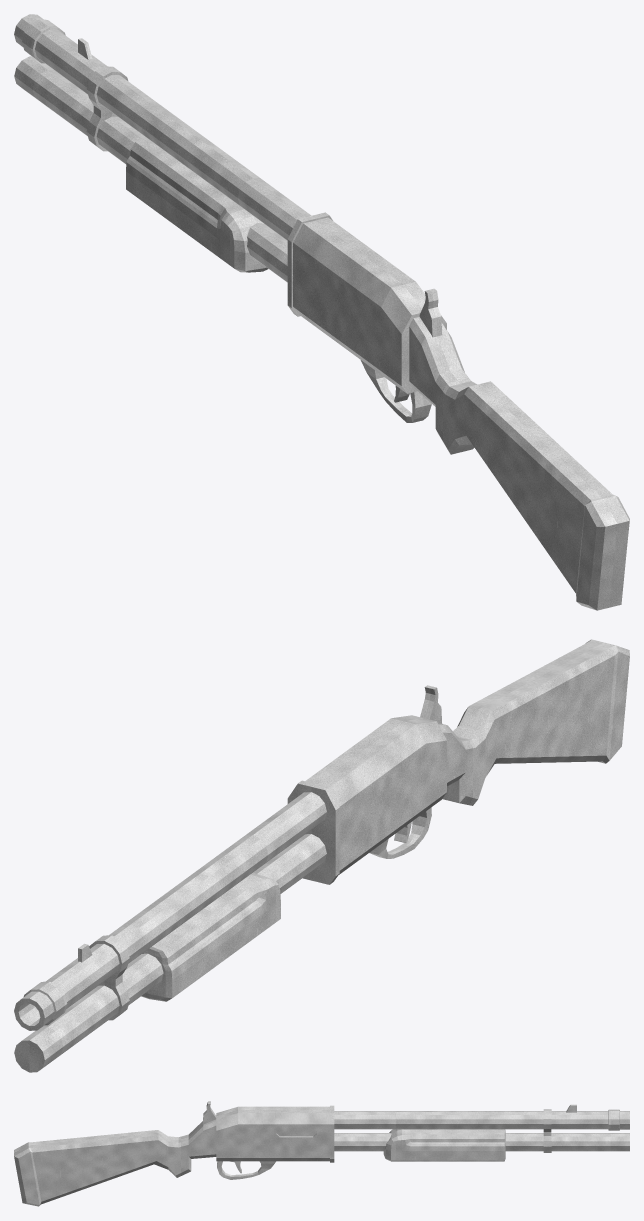
File: shotgun.obj
3 renders of one model, top to bottom at view 1: azimuth 30°, elevation 25°; view 2: azimuth 150°, elevation 25°; view 3: azimuth 270°, elevation 25°, orthographic. The views are drawn at different scales.
Parts seen in each view (by area): view 1: Shotgun_1_Cube.045; view 2: Shotgun_1_Cube.045; view 3: Shotgun_1_Cube.045.
Boxes of the visible parts, box(x1,y1,x2,y2) form: Shotgun_1_Cube.045: box(14, 14, 629, 610); Shotgun_1_Cube.045: box(14, 639, 629, 1072); Shotgun_1_Cube.045: box(14, 1101, 629, 1206).
Size of the model in its own units: 0.0542 by 0.2074 by 1.15.
4 materials, 4 textured.
